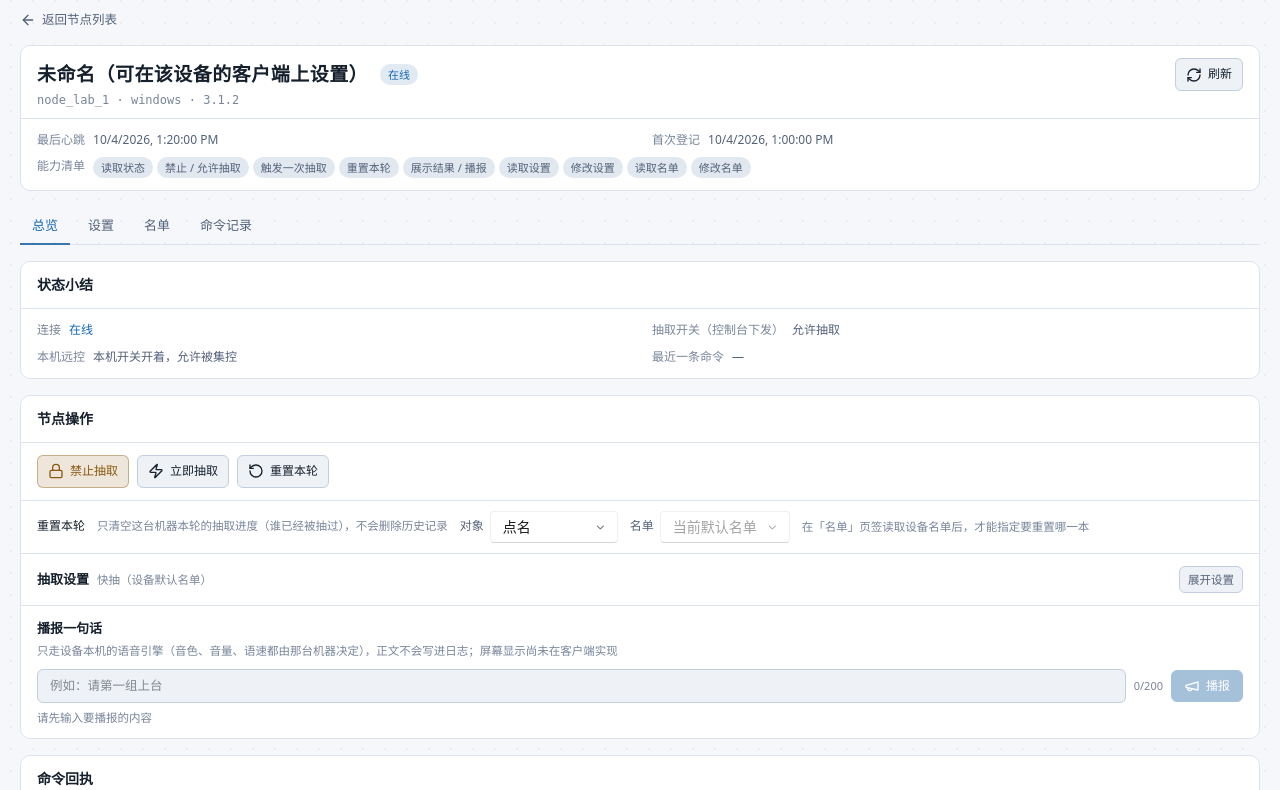
Test: NodeDetailView 动作下发 › 播报只下发 announce，并随后跟进回执
The image size is (1280, 790).
Expected: the button with test id "node-detail-announce-send" is shown, [1171,670,1243,702]
Type "请第一组上台" into the field with test id "node-detail-announce-text" at (581, 686), box [37,669,1126,702]
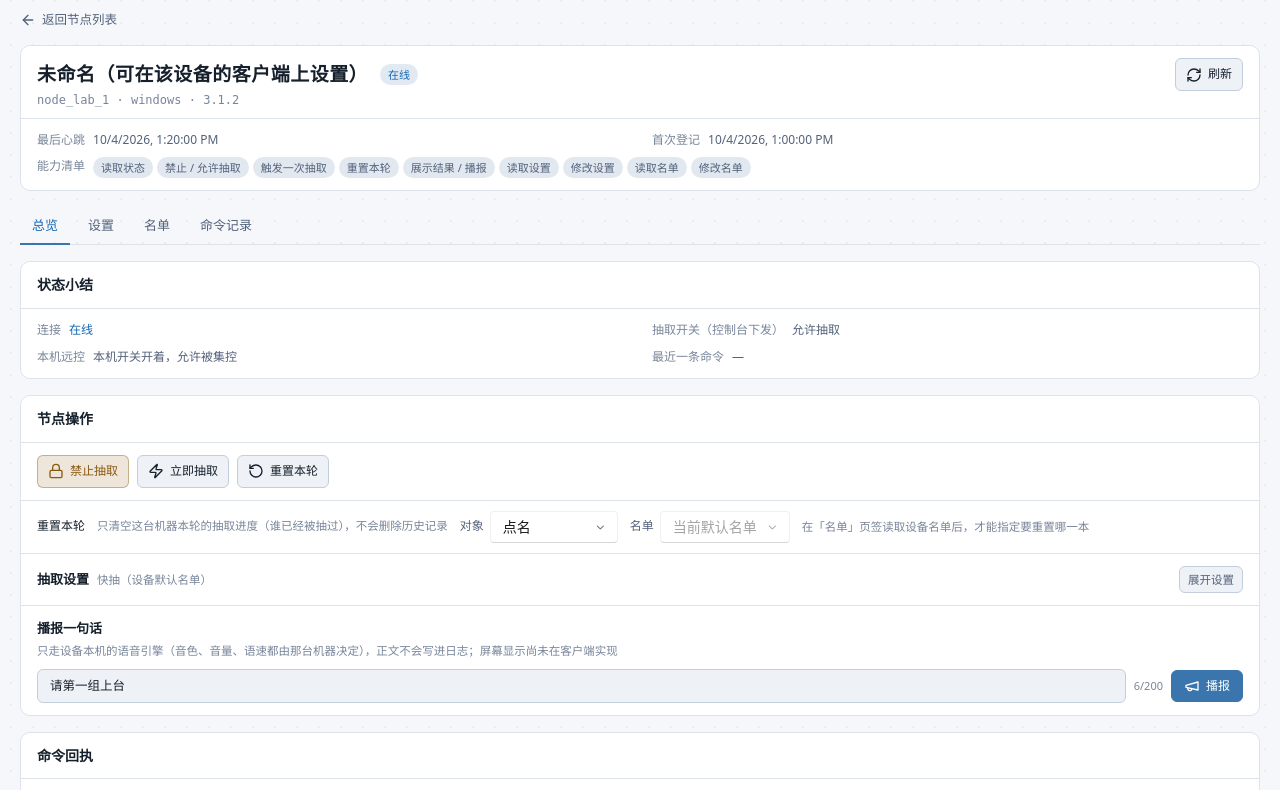
Click the button with test id "node-detail-announce-send" at (1207, 686), box [1171,670,1243,702]
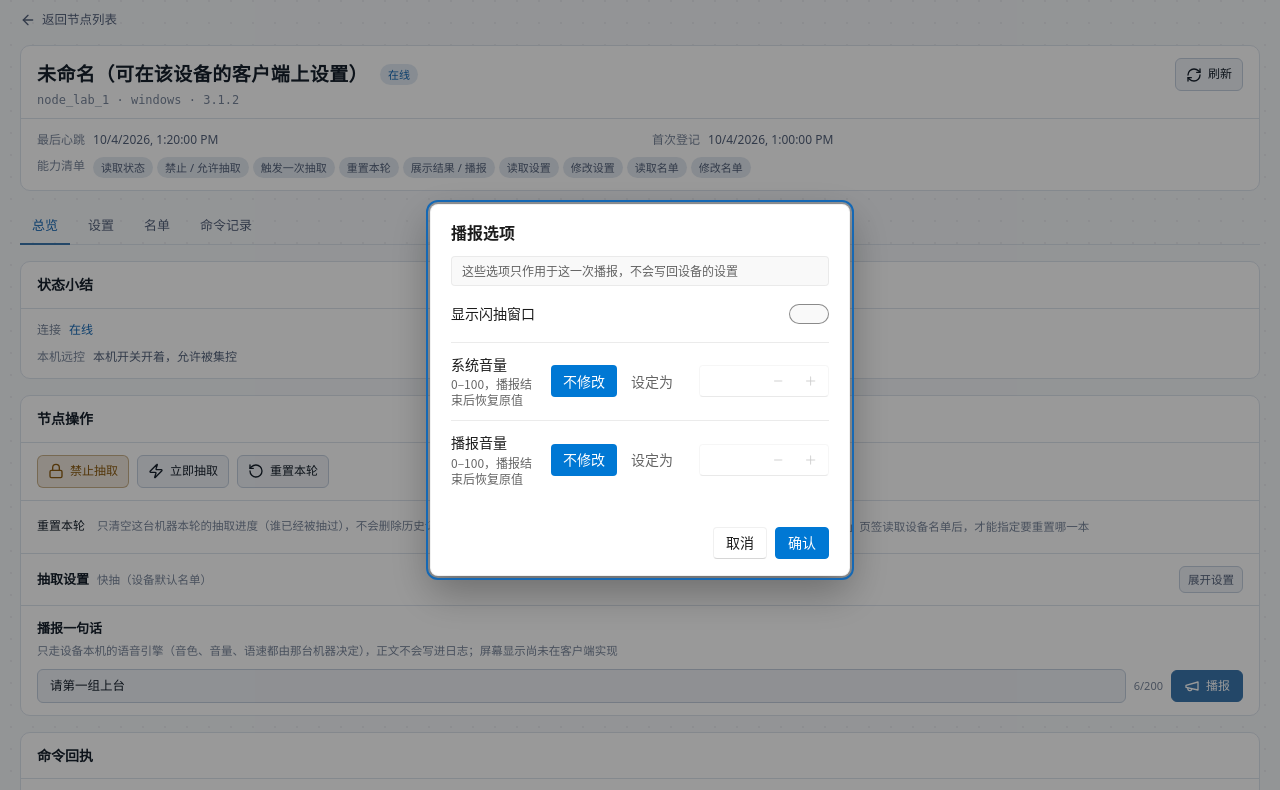
Click the button with test id "broadcast-confirm" at (802, 543), box [775,527,829,559]
(page scrolled)
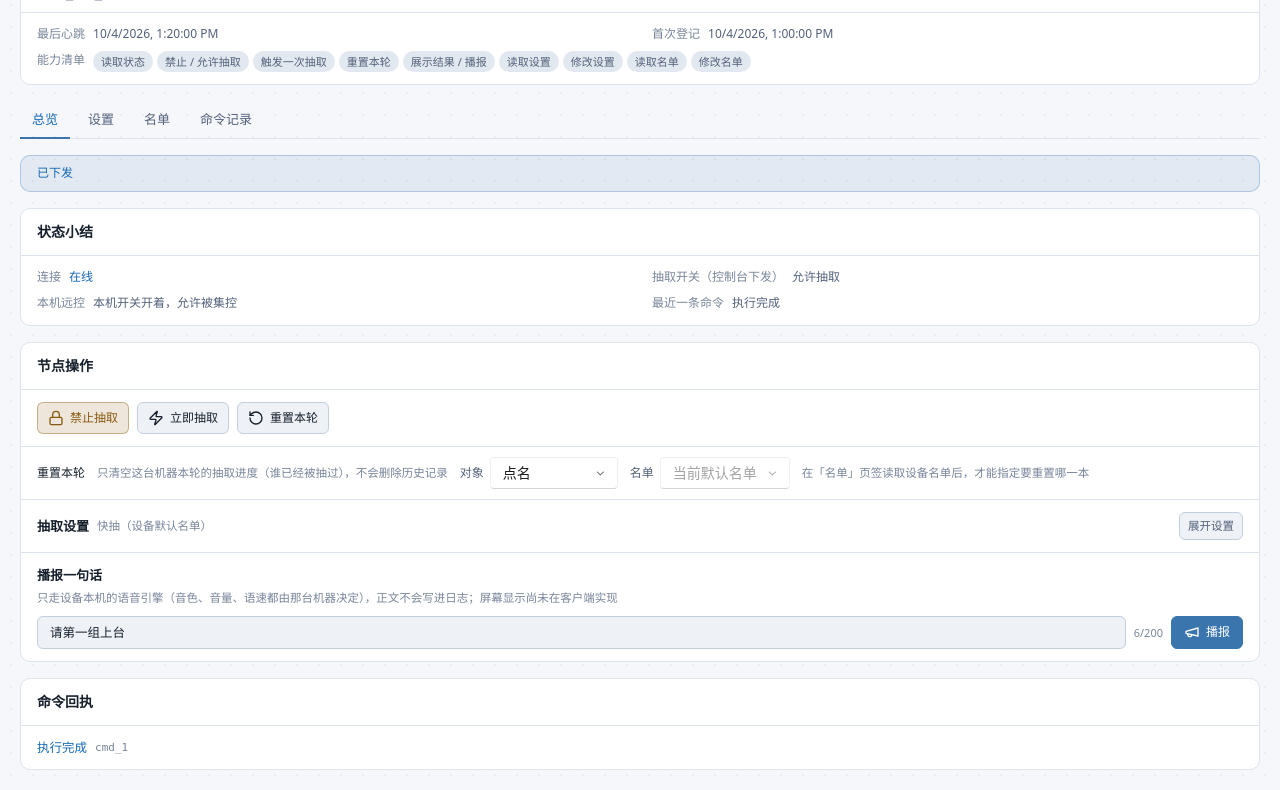
Expected: the element with test id "node-detail-command-status" shows "执行完成", [37,739,87,756]
